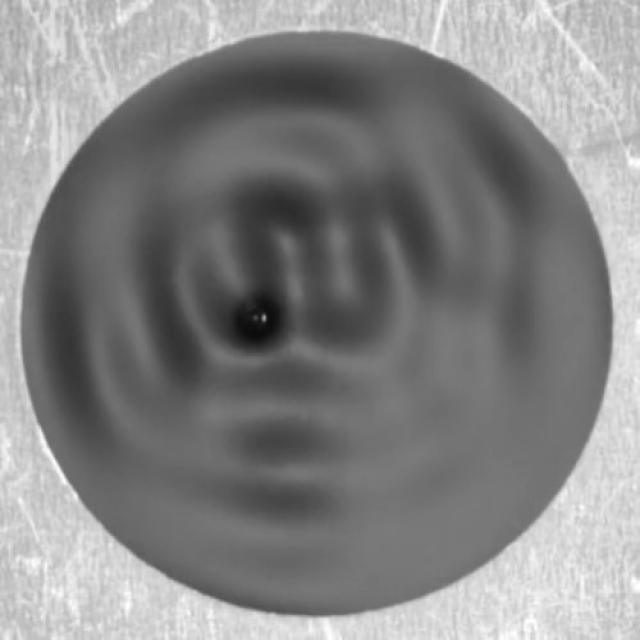droplet: (238, 302, 280, 348)
